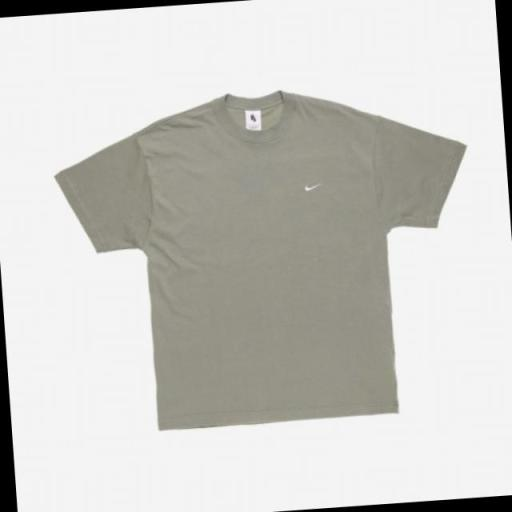Nike: (297, 178, 324, 193)
